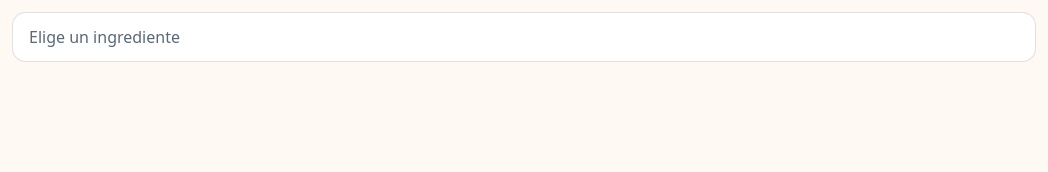
Test: SearchableSelect › chooses an option with the mouse and shows its text
Step 1. Type "que" into the dropdown named "Ingrediente 1" → (524, 37), box [12,12,1036,62]
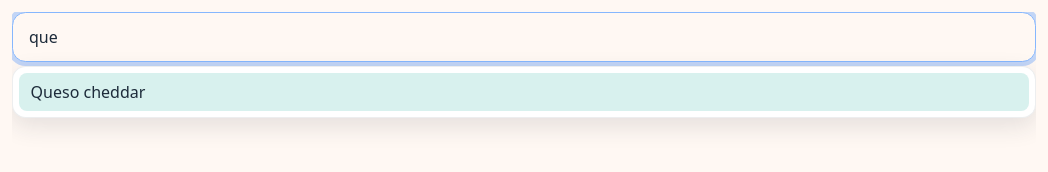
Step 2. Press the mouse on the option "Queso cheddar" → (88, 92), box [19,73,1029,111]
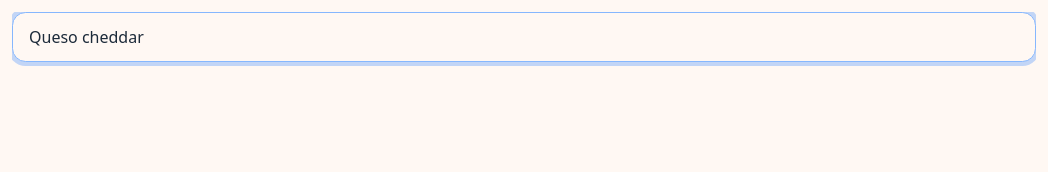
Now the dropdown named "Ingrediente 1" holds "Queso cheddar", box [12,12,1036,62]
Now the list is gone
